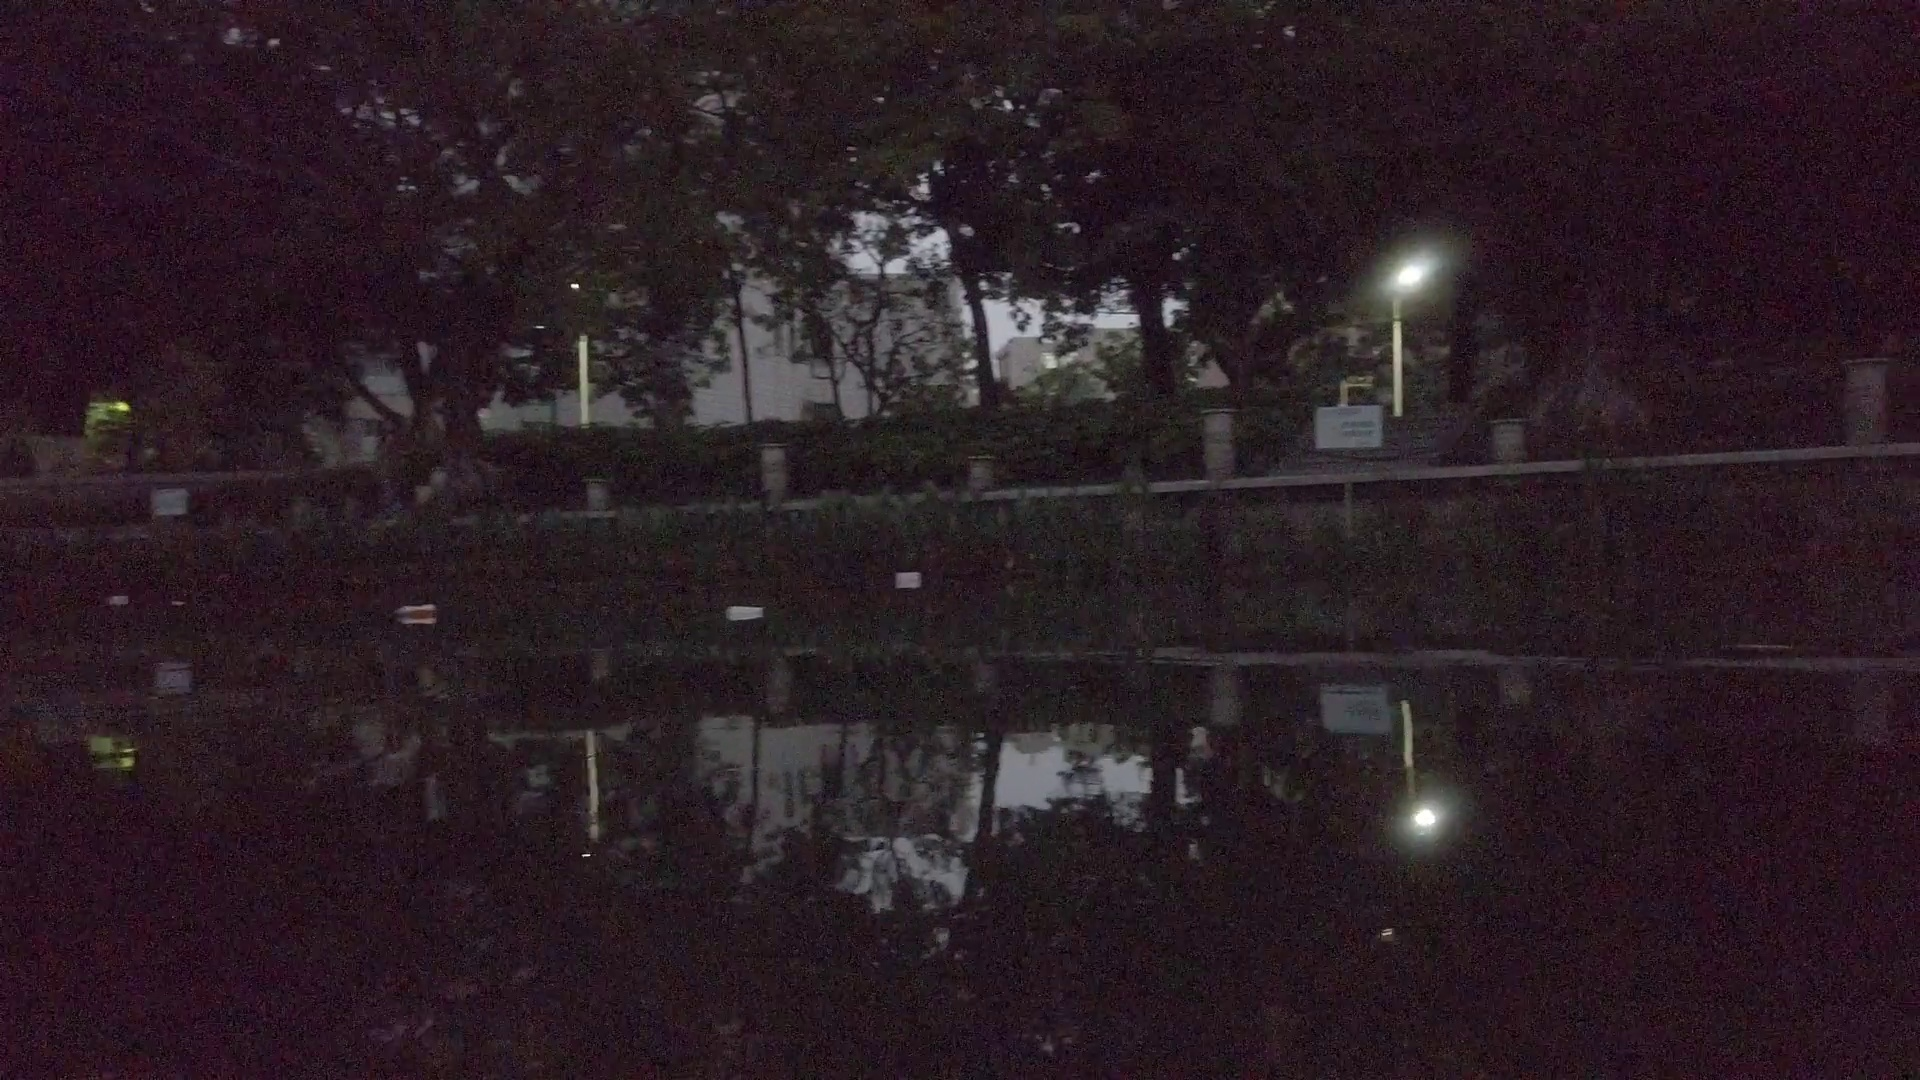bottle: (393, 605, 438, 621)
carton: (727, 607, 765, 622), (893, 572, 923, 587), (109, 593, 128, 607)
